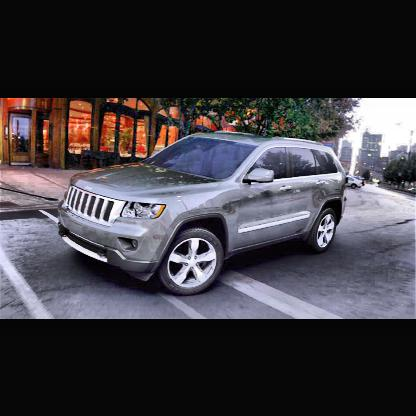Jeep Grand Cherokee SUV 2012: (57, 130, 349, 295)
